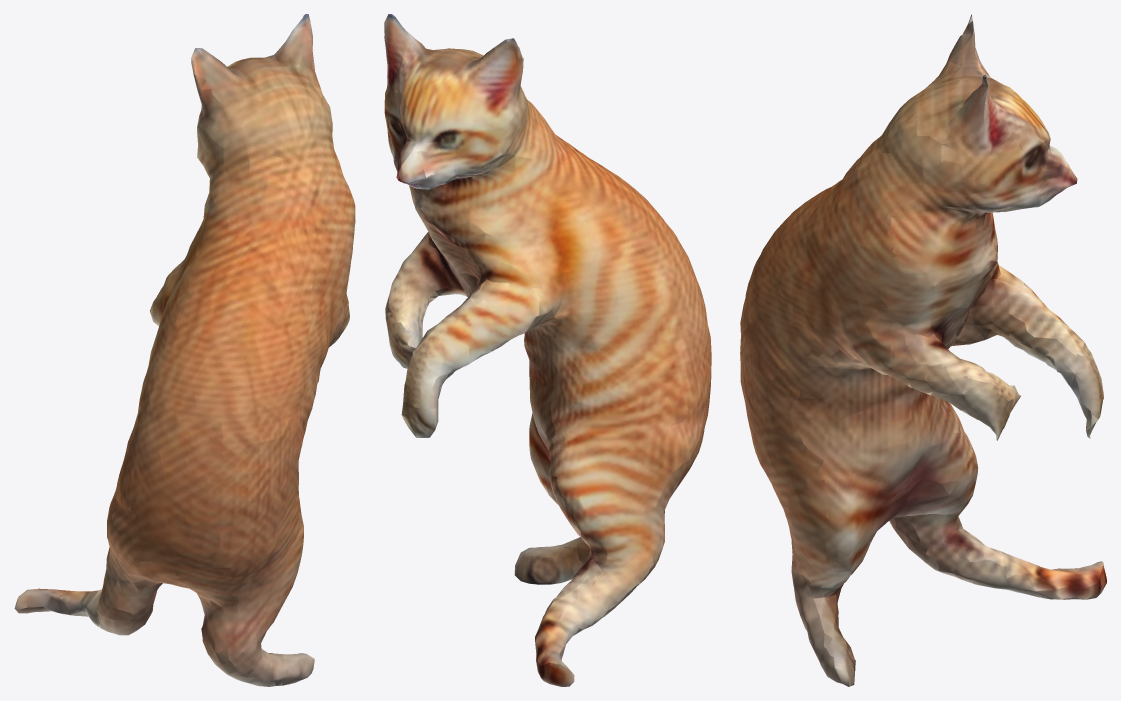
The model's file is an image of a cat in outer spa.glb.
The picture shows the model from 3 angles, left to right: view 1: azimuth 30°, elevation 25°; view 2: azimuth 150°, elevation 25°; view 3: azimuth 270°, elevation 25°; orthographic projection. The views are drawn at different scales.
Visible parts, largest first — view 1: world; view 2: world; view 3: world.
Part boxes in pixels (bbox=[...]): world: bbox=[14, 14, 355, 686]; world: bbox=[384, 14, 711, 686]; world: bbox=[740, 14, 1106, 686].
Bounding box in the file's own units: 0.4204 × 0.922 × 0.473.
Materials: 1 (1 with a texture image).
